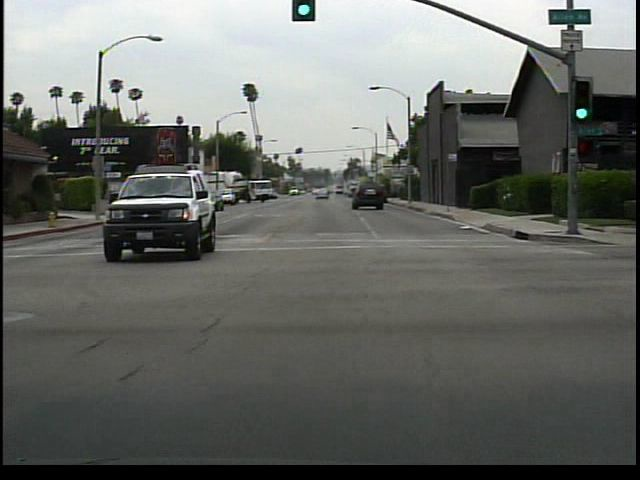person: (115, 183, 134, 217)
